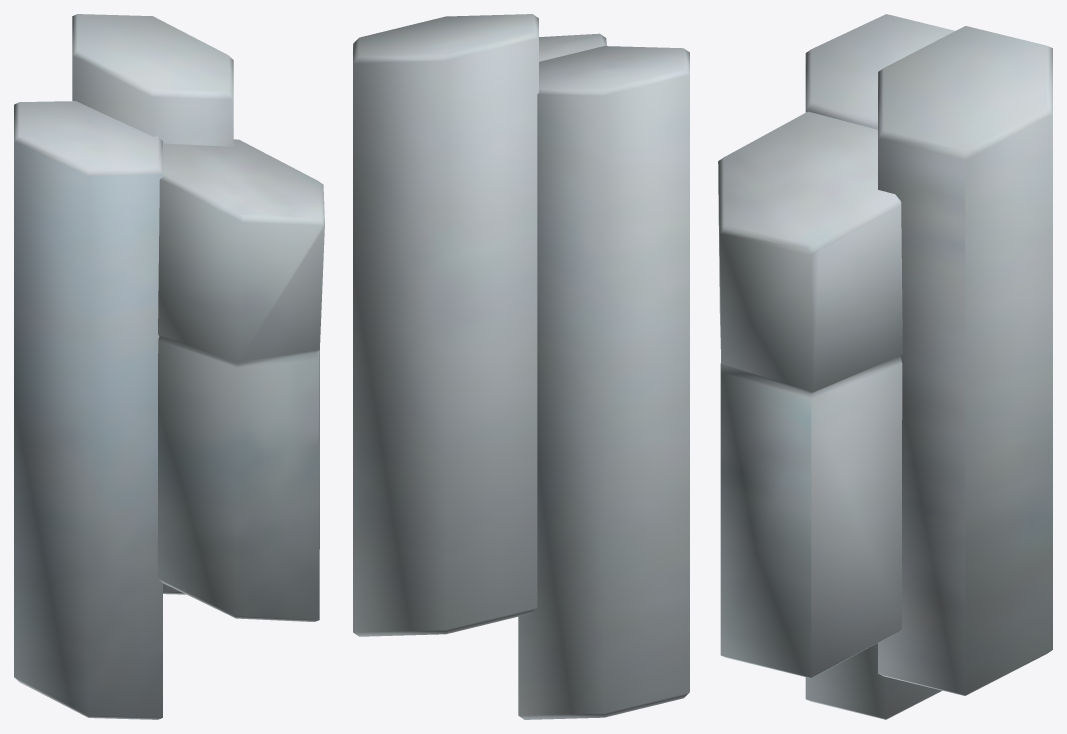
Rendered from P_RockHexic_RockSlanted02.obj.
3 views of the same model, side by side, from view 1: azimuth 30°, elevation 25°; view 2: azimuth 150°, elevation 25°; view 3: azimuth 270°, elevation 25° (orthographic). The views are drawn at different scales.
Bounding box in the file's own units: 6.95 × 14.97 × 6.77.
